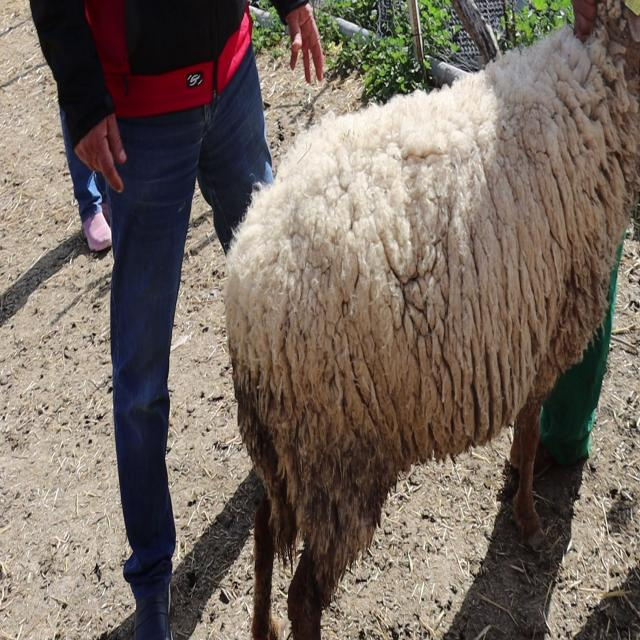Score_5: (225, 0, 640, 639)
